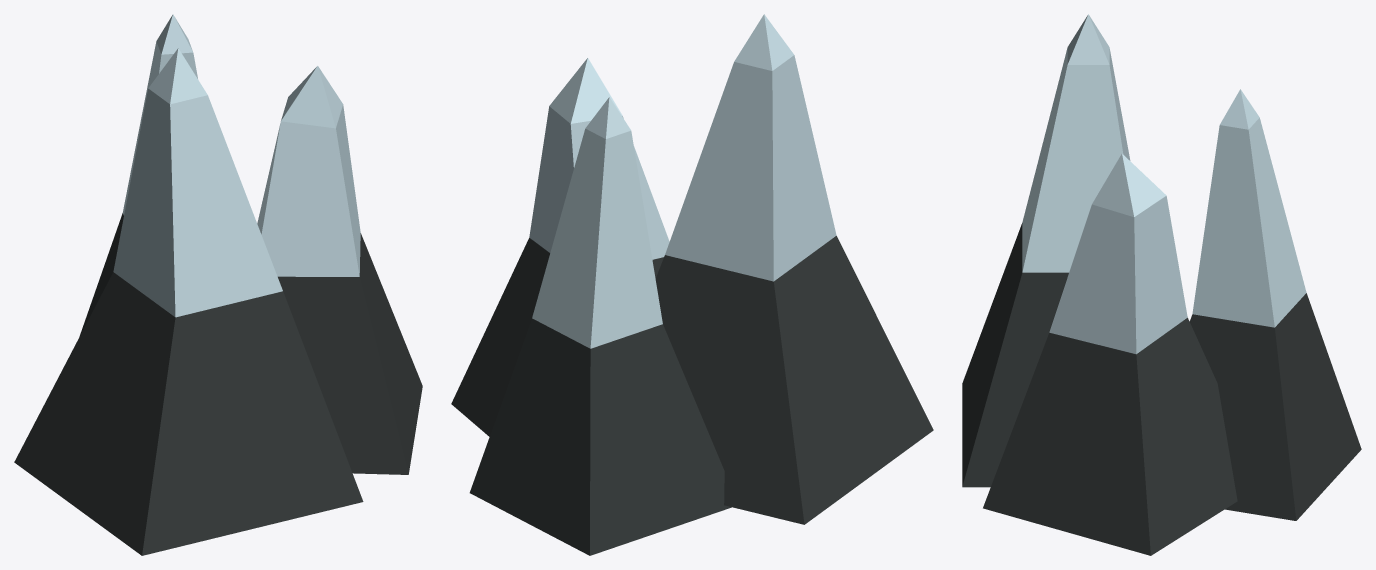
Rendered from SM_Env_Dungeon_Rocks_02_Snow.fbx.
The picture shows the model from 3 angles, left to right: view 1: azimuth 30°, elevation 25°; view 2: azimuth 150°, elevation 25°; view 3: azimuth 270°, elevation 25°; orthographic projection. The views are drawn at different scales.
Visible parts, largest first — view 1: SM_Env_Dungeon_Rocks_02_Snow; view 2: SM_Env_Dungeon_Rocks_02_Snow; view 3: SM_Env_Dungeon_Rocks_02_Snow.
Part boxes in pixels (bbox=[...]): SM_Env_Dungeon_Rocks_02_Snow: bbox=[14, 14, 422, 555]; SM_Env_Dungeon_Rocks_02_Snow: bbox=[451, 14, 933, 555]; SM_Env_Dungeon_Rocks_02_Snow: bbox=[962, 14, 1361, 555].
Size of the model in its own units: 43.85 by 48.55 by 41.71.
1 material, 1 textured.
